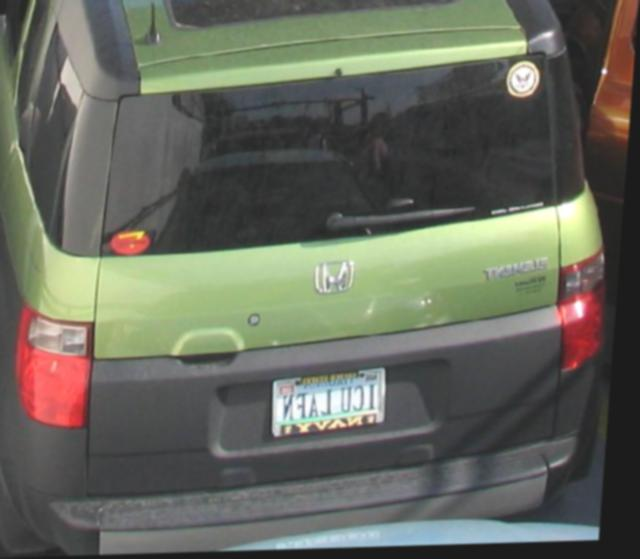License_Plate: (259, 355, 397, 450)
